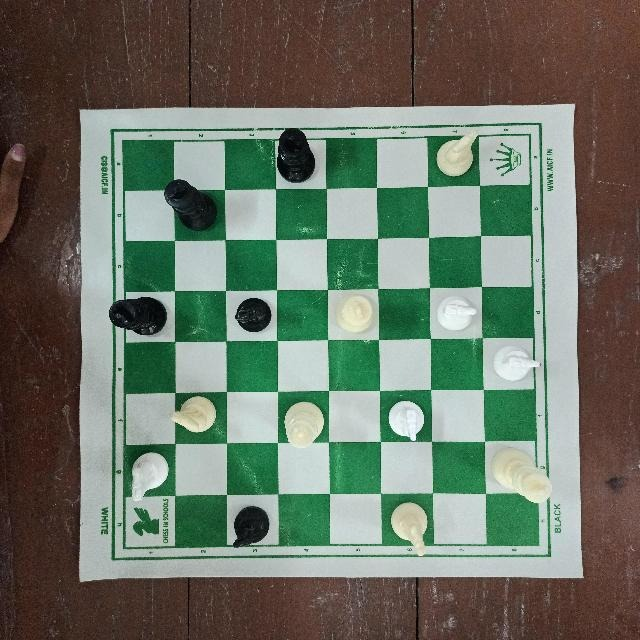black-king: (107, 293, 174, 341), (275, 120, 317, 186), (161, 180, 217, 229)
black-knight: (228, 502, 272, 560), (232, 292, 276, 339)
white-king: (485, 445, 556, 509), (327, 291, 379, 338)
white-knight: (428, 288, 484, 340), (123, 448, 173, 505), (387, 495, 432, 556), (436, 121, 484, 177), (383, 397, 431, 447), (489, 344, 541, 388), (173, 396, 222, 438)
white-queen: (278, 398, 330, 452)
